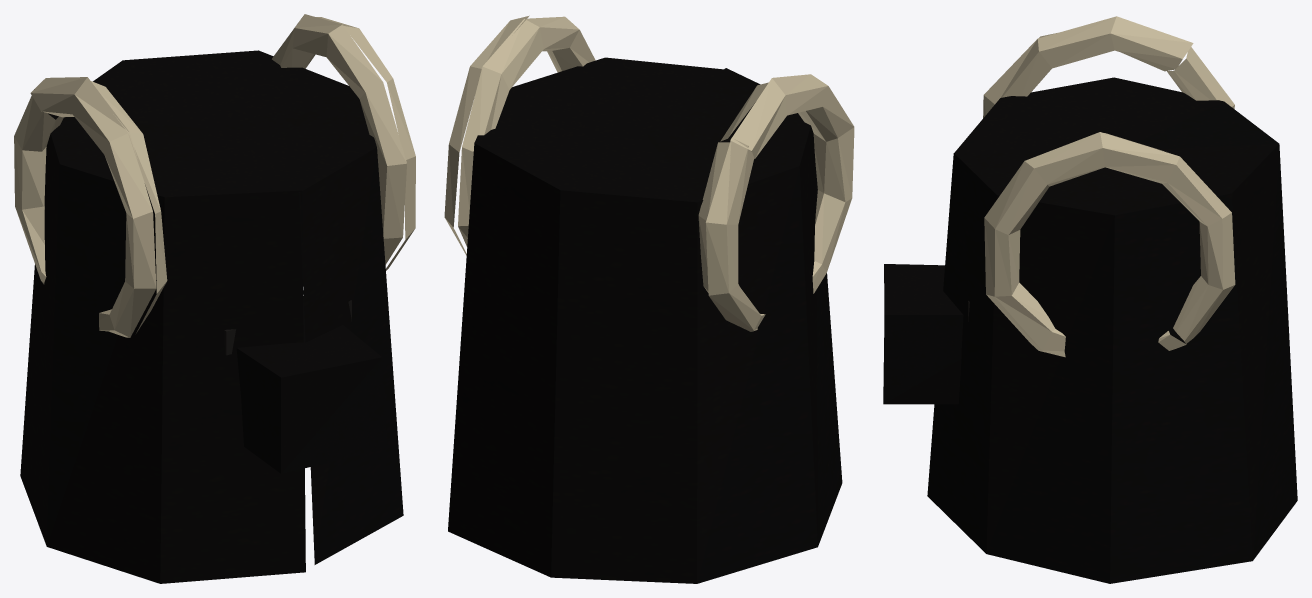
File: stone-wanderer-ram-helm-v1.glb
3 renders of one model, left to right at view 1: azimuth 30°, elevation 25°; view 2: azimuth 150°, elevation 25°; view 3: azimuth 270°, elevation 25°, orthographic. The views are drawn at different scales.
Visible parts, largest first — view 1: Part_0, Part_1, Part_2, Part_3; view 2: Part_0, Part_2, Part_3; view 3: Part_0, Part_3, Part_1, Part_2.
Boxes of the visible parts, x1=… form: Part_0: x1=20, y1=50, x2=403, y2=583; Part_1: x1=236, y1=296, x2=387, y2=473; Part_2: x1=14, y1=77, x2=167, y2=337; Part_3: x1=272, y1=14, x2=415, y2=270; Part_0: x1=448, y1=57, x2=842, y2=583; Part_2: x1=698, y1=74, x2=854, y2=331; Part_3: x1=444, y1=15, x2=595, y2=255; Part_0: x1=927, y1=77, x2=1297, y2=583; Part_3: x1=984, y1=132, x2=1235, y2=357; Part_1: x1=883, y1=264, x2=963, y2=404; Part_2: x1=983, y1=16, x2=1234, y2=118.
Size of the model in its own units: 0.6002 by 0.765 by 0.6643.
Materials: 3 (1 with a texture image).
